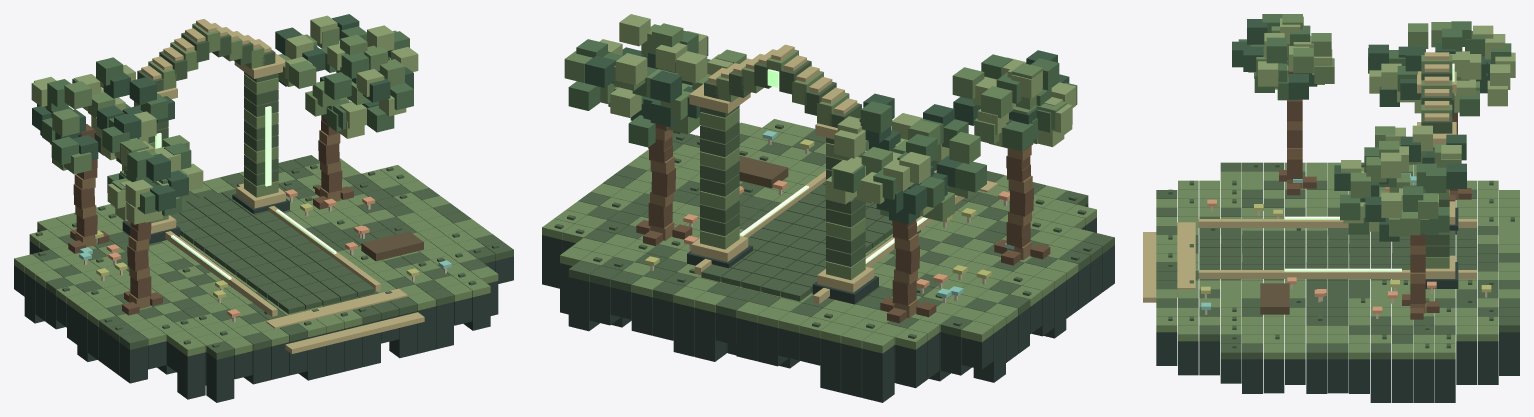
The model's file is preview-forest.glb.
3 renders of one model, left to right at view 1: azimuth 30°, elevation 25°; view 2: azimuth 150°, elevation 25°; view 3: azimuth 270°, elevation 25°, orthographic. The views are drawn at different scales.
Parts seen in each view (by area): view 1: Terrain, Layered_Canopy, Floating_Bedrock, Causeway, Tree_Trunks, Carved_Pillars, Stepped_Arch, Front_Stairs, Causeway_Edge, Pillar_Plinths, Mushroom_Caps, Arch_Crown (+6 smaller); view 2: Terrain, Layered_Canopy, Floating_Bedrock, Carved_Pillars, Causeway, Tree_Trunks, Stepped_Arch, Pillar_Plinths, Arch_Crown, Tree_Roots, Mushroom_Caps, Causeway_Edge (+4 smaller); view 3: Terrain, Layered_Canopy, Floating_Bedrock, Causeway, Causeway_Edge, Tree_Trunks, Front_Stairs, Stepped_Arch, Arch_Crown, Surface_Chips, Mushroom_Caps, Tree_Roots (+5 smaller).
Boxes of the visible parts, <box> form: Terrain: <box>14,155,513,359</box>; Layered_Canopy: <box>31,14,418,224</box>; Floating_Bedrock: <box>14,229,513,402</box>; Causeway: <box>170,189,374,314</box>; Tree_Trunks: <box>73,115,342,308</box>; Carved_Pillars: <box>134,72,278,223</box>; Stepped_Arch: <box>137,23,275,91</box>; Front_Stairs: <box>266,288,424,353</box>; Causeway_Edge: <box>165,183,380,316</box>; Pillar_Plinths: <box>122,186,289,244</box>; Mushroom_Caps: <box>79,189,451,317</box>; Arch_Crown: <box>141,19,271,79</box>; Terrain: <box>542,119,1114,353</box>; Layered_Canopy: <box>564,14,1077,224</box>; Floating_Bedrock: <box>542,203,1114,402</box>; Carved_Pillars: <box>700,105,865,279</box>; Causeway: <box>701,181,948,301</box>; Tree_Trunks: <box>648,124,1033,317</box>; Stepped_Arch: <box>704,49,861,127</box>; Pillar_Plinths: <box>687,236,878,304</box>; Arch_Crown: <box>708,44,857,114</box>; Tree_Roots: <box>636,220,1050,323</box>; Mushroom_Caps: <box>644,130,1014,301</box>; Causeway_Edge: <box>694,170,964,303</box>; Terrain: <box>1156,162,1519,359</box>; Layered_Canopy: <box>1232,14,1515,241</box>; Floating_Bedrock: <box>1156,332,1519,402</box>; Causeway: <box>1199,230,1476,269</box>; Causeway_Edge: <box>1198,219,1476,278</box>; Tree_Trunks: <box>1287,70,1457,313</box>; Front_Stairs: <box>1143,222,1195,302</box>; Stepped_Arch: <box>1421,55,1452,133</box>; Arch_Crown: <box>1424,52,1449,120</box>; Surface_Chips: <box>1168,162,1514,348</box>; Mushroom_Caps: <box>1201,171,1491,313</box>; Tree_Roots: <box>1279,170,1471,319</box>.
Size of the model in its own units: 8.39 by 5.14 by 7.04.
